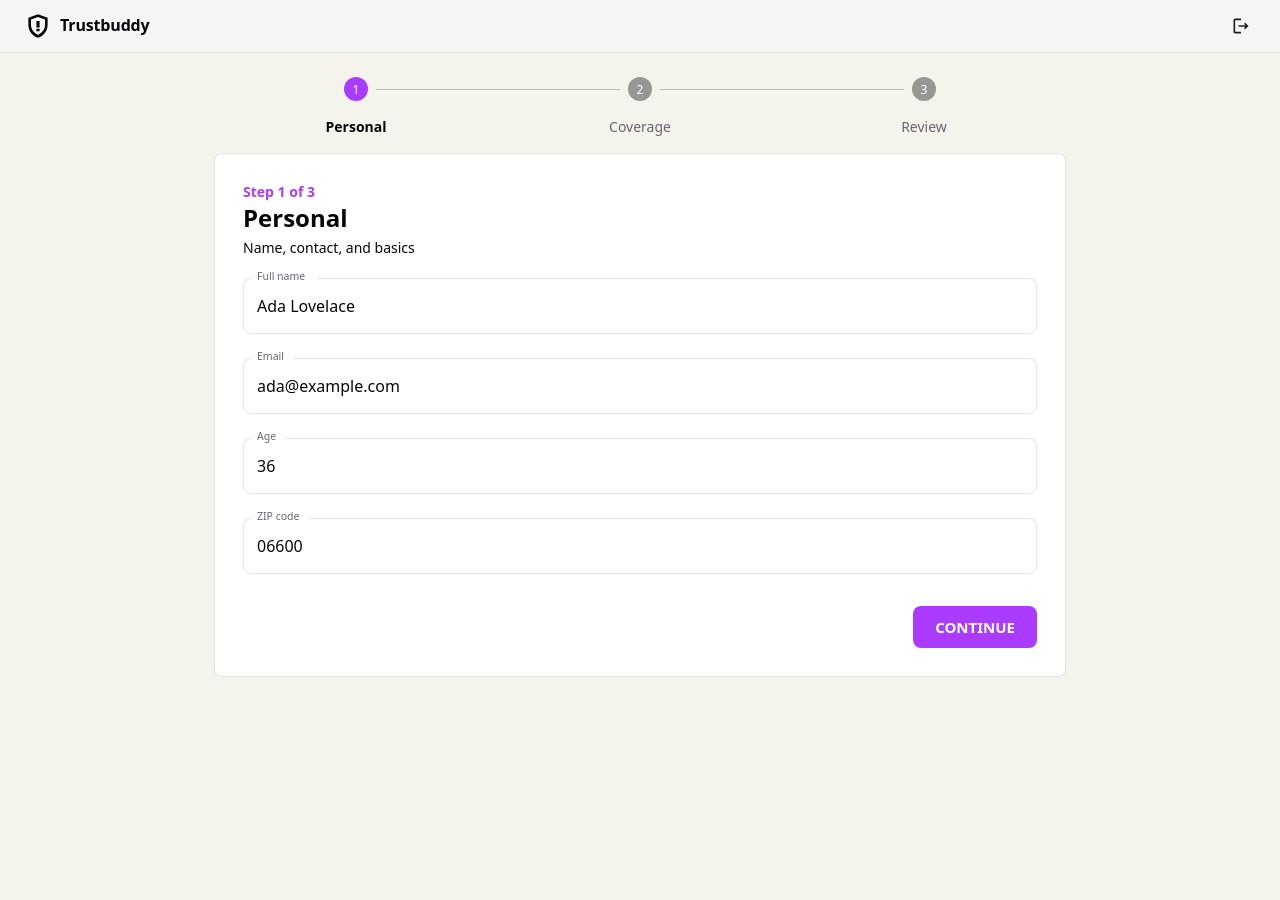
it: wizard routes › given_draftQuote_when_personalSaved_then_patchesAndAdvances
The image size is (1280, 900).
Step 1. Replace the text in the field labelled "Full name" with "Augusta Ada" → (640, 306), box [243,278,1037,334]
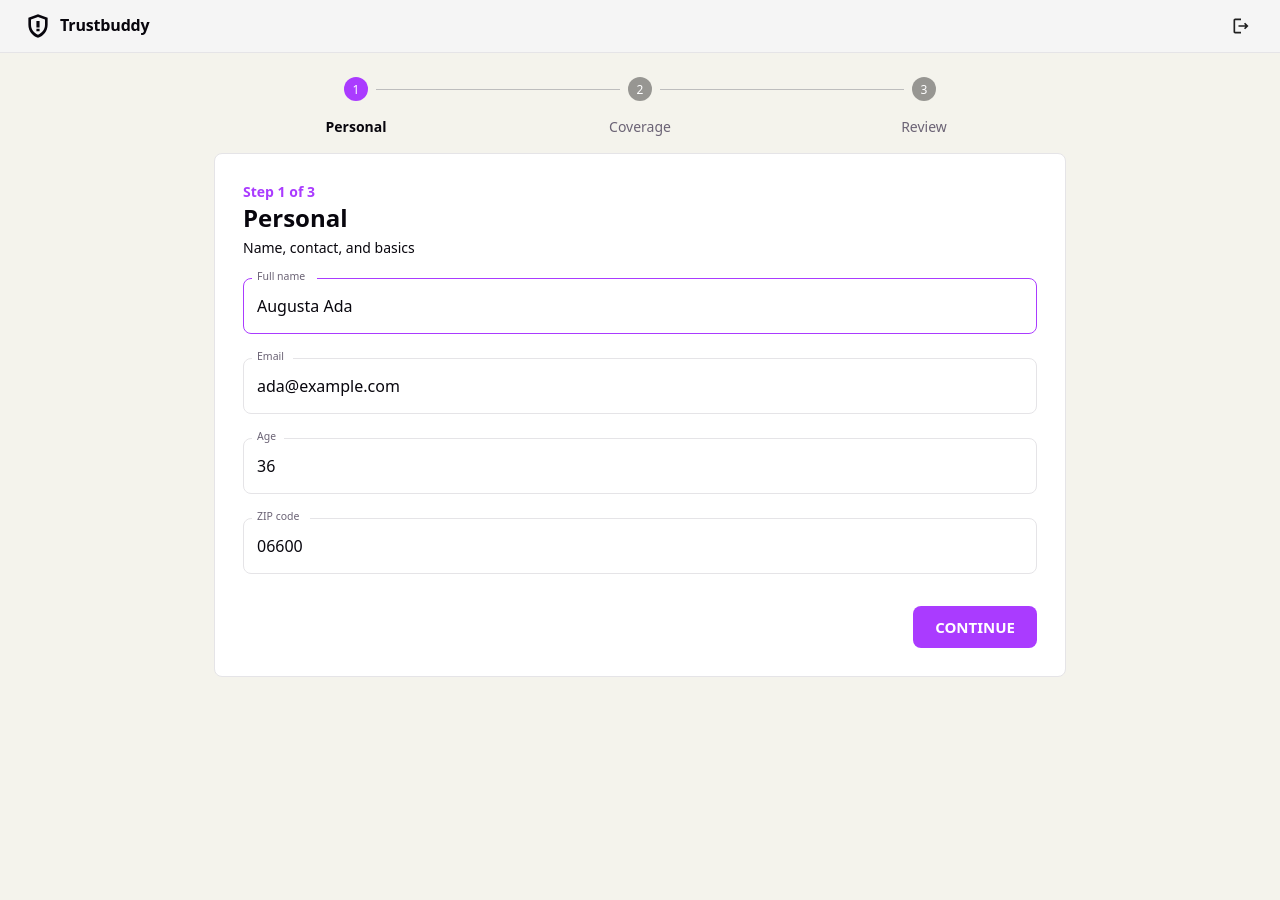
Step 2. Click the button "Continue" → (975, 627), box [913,606,1037,648]
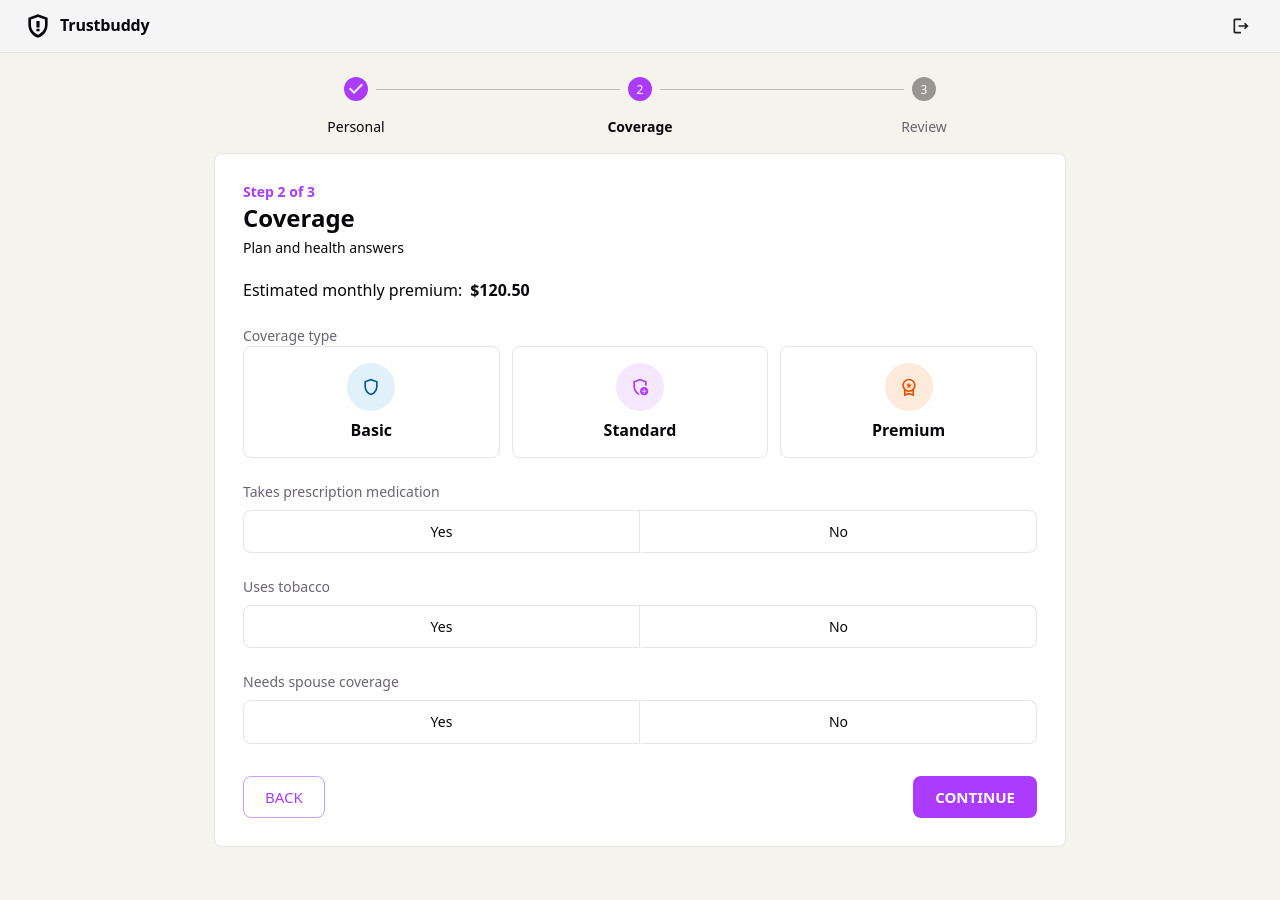
Expected: the heading "Coverage" is shown, [243,201,355,234]
